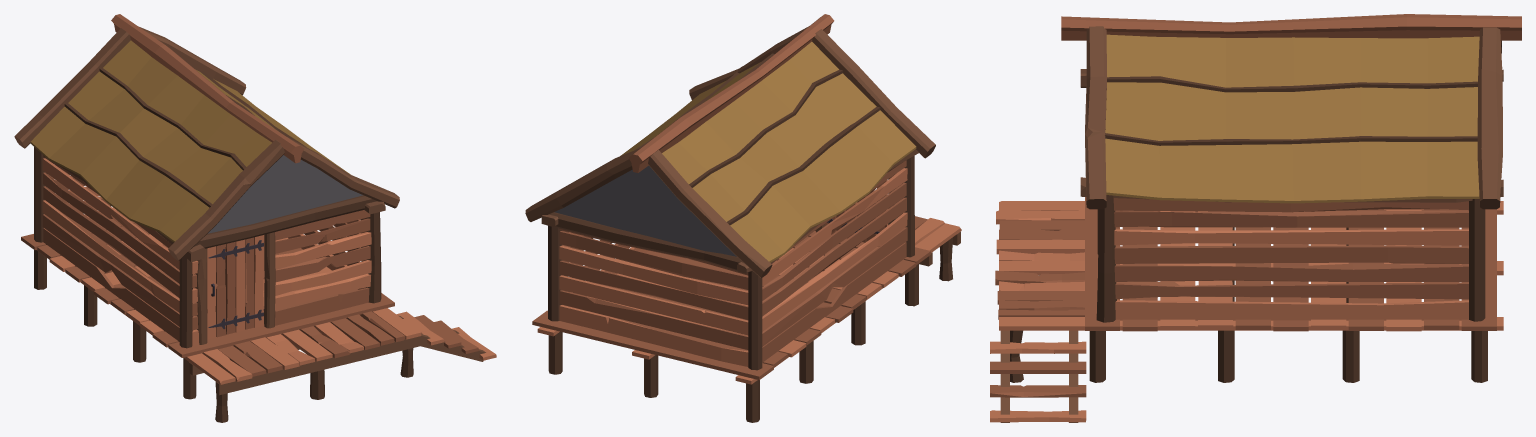
Rendered from Building_3_Wall_On_1.fbx.
3 renders of one model, left to right at view 1: azimuth 30°, elevation 25°; view 2: azimuth 150°, elevation 25°; view 3: azimuth 270°, elevation 25°, orthographic. The views are drawn at different scales.
Parts seen in each view (by area): view 1: Building_3_Wall_On_1, Door; view 2: Building_3_Wall_On_1; view 3: Building_3_Wall_On_1.
Part boxes in pixels (x1,y1,x2,y2): Building_3_Wall_On_1: (14, 14, 496, 422); Door: (207, 235, 264, 339); Building_3_Wall_On_1: (525, 14, 961, 422); Building_3_Wall_On_1: (990, 14, 1521, 422).
Size of the model in its own units: 6.4 by 5.16 by 8.11.
